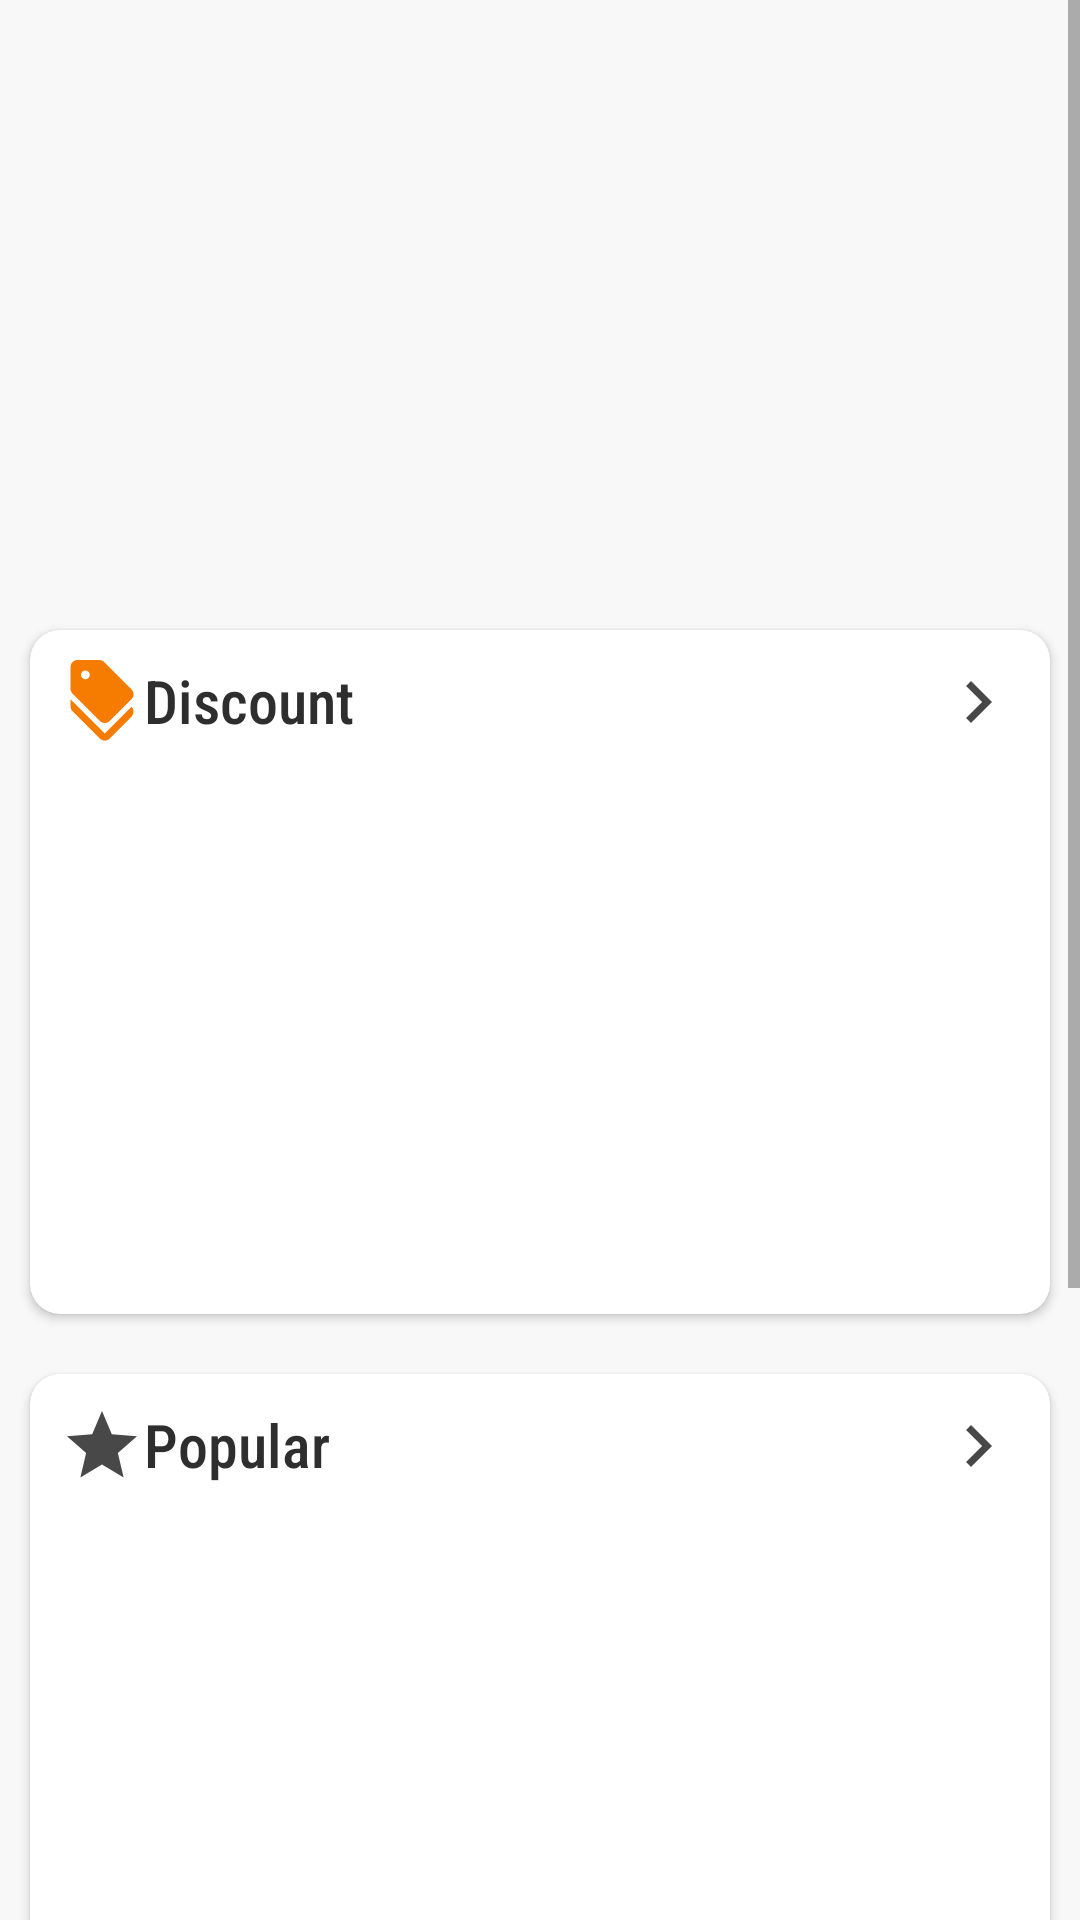

Locate icon controls on the screen. Image size 1080x1920, boxes as [left=x1, top=y1, right=x2, bottom=y2].
navigate next: [left=966, top=681, right=992, bottom=723], [left=966, top=1425, right=992, bottom=1467]
star: [left=67, top=1411, right=137, bottom=1478]
